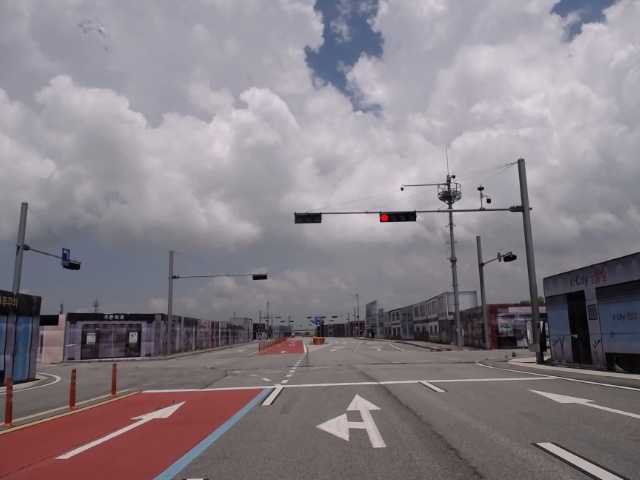red_4: (380, 213, 416, 222)
